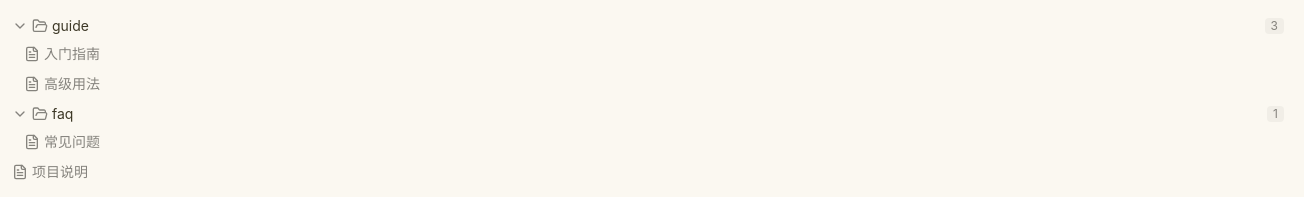
it: FileTree › collapses directory when clicked and hides children
// Click the 'guide' directory button to collapse
Click the button "guide 3" at (70, 26), box [12,12,1292,40]
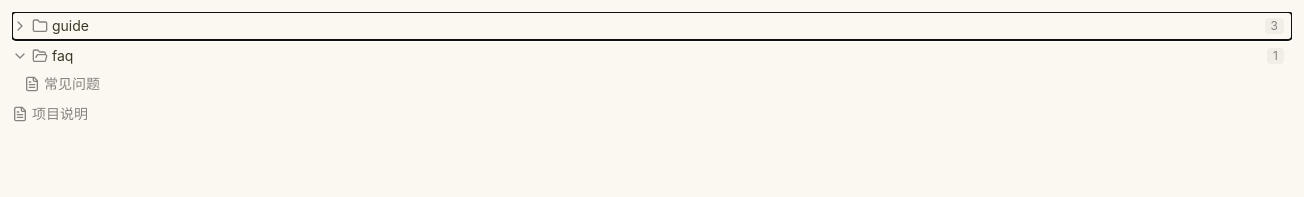
Expected: the text "常见问题" is shown, [44,74,100,94]
Expected: the link "入门指南" is gone
Expected: the link "高级用法" is gone
